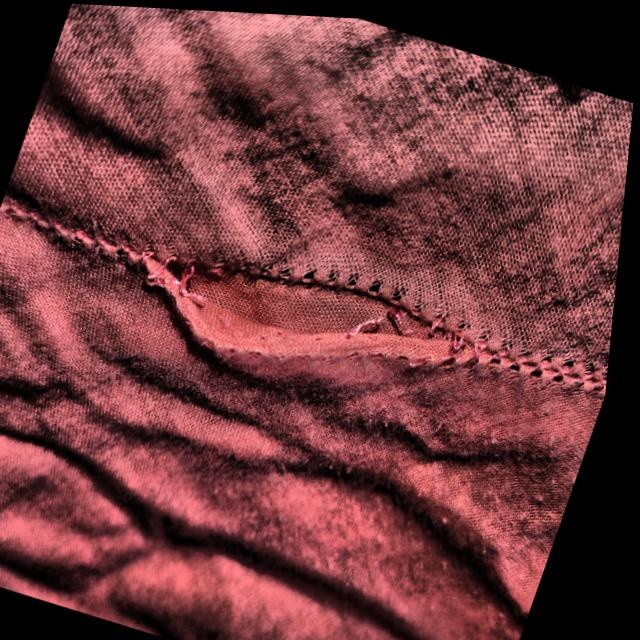seam: (34, 136, 551, 483)
